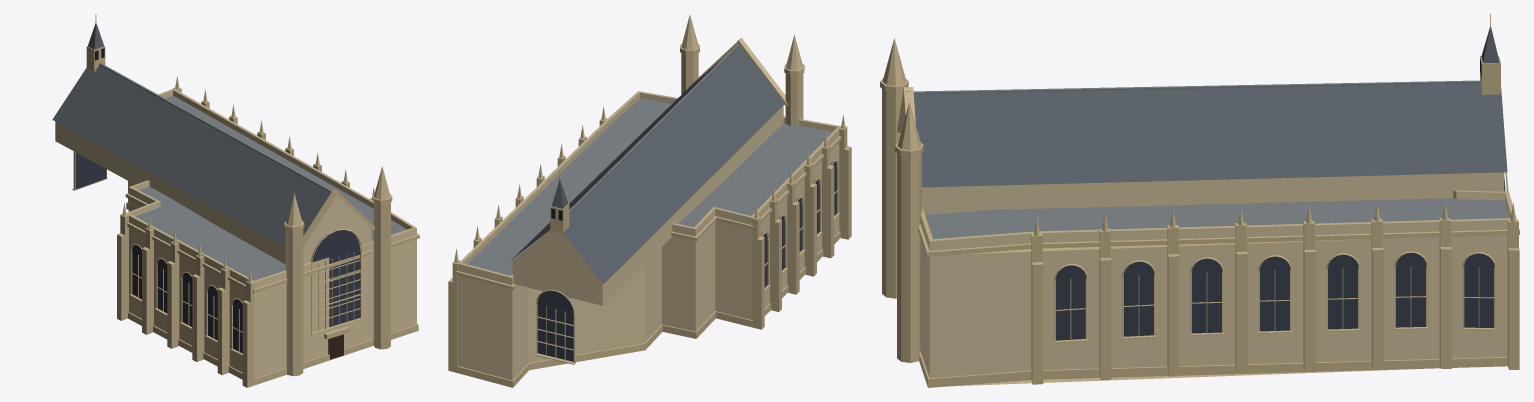
The model's file is holy_trinity_prince_consort_road.glb.
The picture shows the model from 3 angles, left to right: view 1: azimuth 30°, elevation 25°; view 2: azimuth 150°, elevation 25°; view 3: azimuth 270°, elevation 25°; orthographic projection. The views are drawn at different scales.
Bounding box in the file's own units: 28.73 × 27.27 × 53.29.
